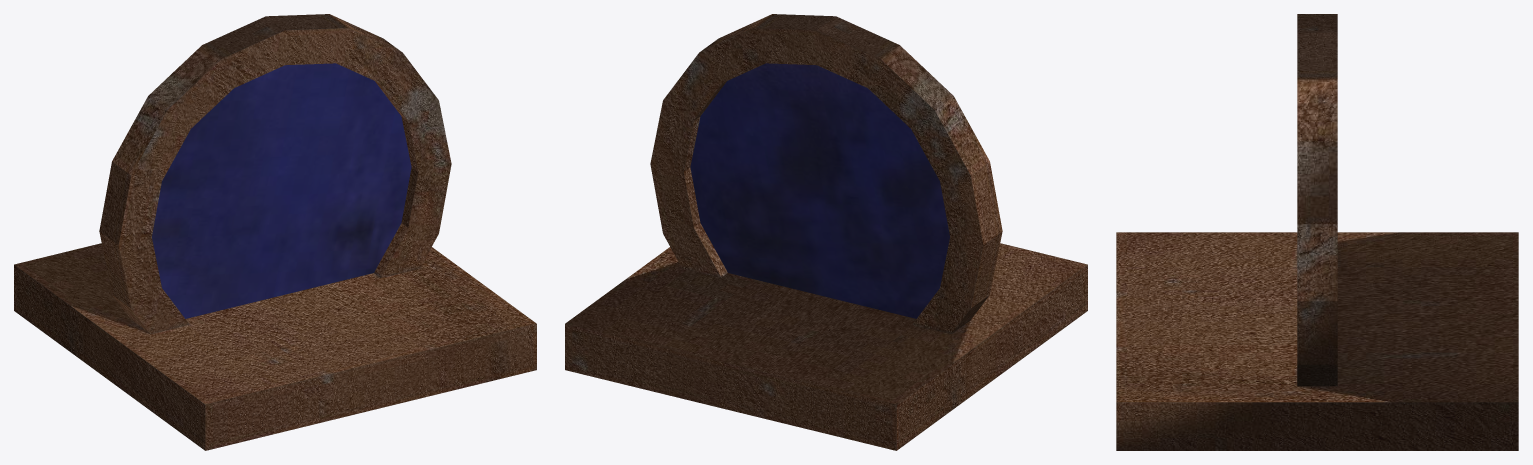
File: stoneportal.glb
3 renders of one model, left to right at view 1: azimuth 30°, elevation 25°; view 2: azimuth 150°, elevation 25°; view 3: azimuth 270°, elevation 25°, orthographic. The views are drawn at different scales.
Parts seen in each view (by area): view 1: Portal; view 2: Portal; view 3: Portal.
Boxes of the visible parts, box(x1,y1,x2,y2) form: Portal: box(14, 14, 536, 450); Portal: box(565, 14, 1087, 450); Portal: box(1116, 14, 1518, 450).
Size of the model in its own units: 2 by 2 by 1.99.
1 material, 1 textured.
